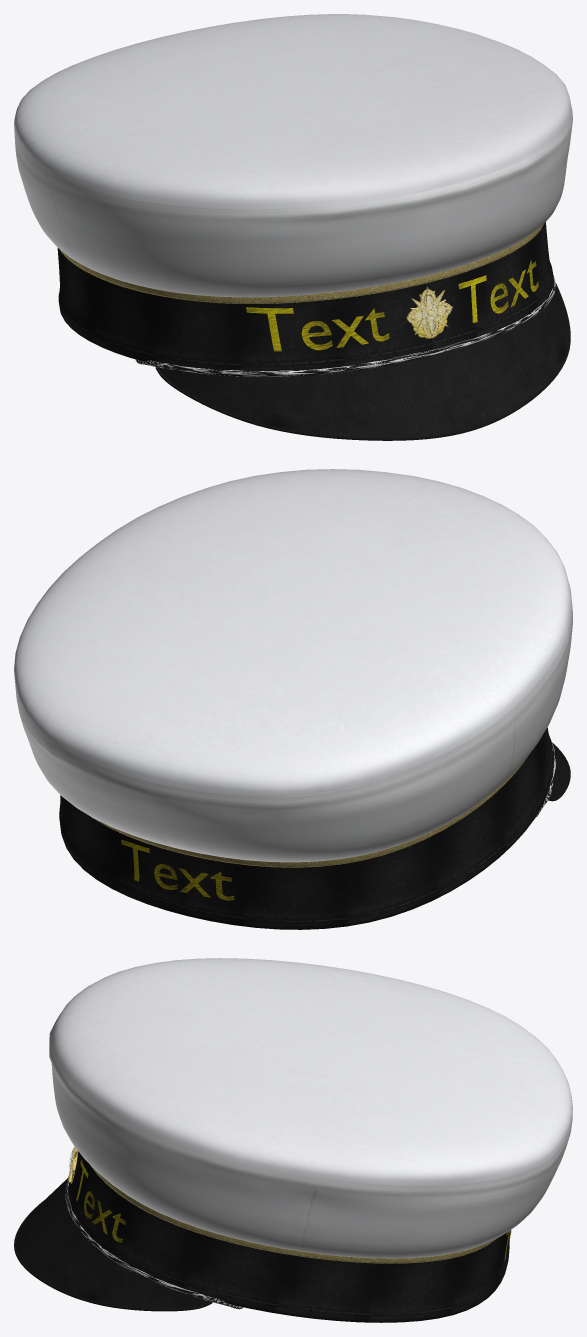
The model's file is cap_version_14-transformed.glb.
3 views of the same model, one above another, from view 1: azimuth 30°, elevation 25°; view 2: azimuth 150°, elevation 25°; view 3: azimuth 270°, elevation 25° (orthographic). The views are drawn at different scales.
Visible parts, largest first — view 1: whiteVelvet, panta.velvetBlack, visor, roundRibbon.ribon gliter gold, cord.black, cord.silver, embroideryText.left, visor.frontLine, embroideryText.right, badge.crystal, badge.star; view 2: whiteVelvet, panta.velvetBlack, roundRibbon.ribon gliter gold, embroideryText.back, visor; view 3: whiteVelvet, panta.velvetBlack, visor, roundRibbon.ribon gliter gold, cord.silver, visor.frontLine, cord.black, embroideryText.right.
Part boxes in pixels (left/top/right/bottom): whiteVelvet: left=14, top=14, right=572, bottom=297; panta.velvetBlack: left=57, top=222, right=553, bottom=371; visor: left=159, top=288, right=569, bottom=437; roundRibbon.ribon gliter gold: left=60, top=224, right=543, bottom=303; cord.black: left=137, top=276, right=555, bottom=376; cord.silver: left=135, top=277, right=555, bottom=376; embroideryText.left: left=246, top=307, right=389, bottom=351; visor.frontLine: left=155, top=283, right=570, bottom=440; embroideryText.right: left=458, top=260, right=538, bottom=323; badge.crystal: left=407, top=289, right=452, bottom=337; badge.star: left=406, top=286, right=452, bottom=338; whiteVelvet: left=14, top=469, right=572, bottom=862; panta.velvetBlack: left=59, top=727, right=553, bottom=929; roundRibbon.ribon gliter gold: left=91, top=757, right=527, bottom=867; embroideryText.back: left=121, top=839, right=234, bottom=900; visor: left=550, top=743, right=569, bottom=798; whiteVelvet: left=49, top=958, right=572, bottom=1258; panta.velvetBlack: left=68, top=1151, right=510, bottom=1322; visor: left=16, top=1177, right=209, bottom=1308; roundRibbon.ribon gliter gold: left=90, top=1165, right=497, bottom=1263; cord.silver: left=65, top=1179, right=242, bottom=1309; visor.frontLine: left=14, top=1200, right=212, bottom=1311; cord.black: left=65, top=1181, right=242, bottom=1308; embroideryText.right: left=76, top=1159, right=125, bottom=1242.
Size of the model in its own units: 1.76 by 0.9352 by 2.04.
20 materials, 15 textured.
